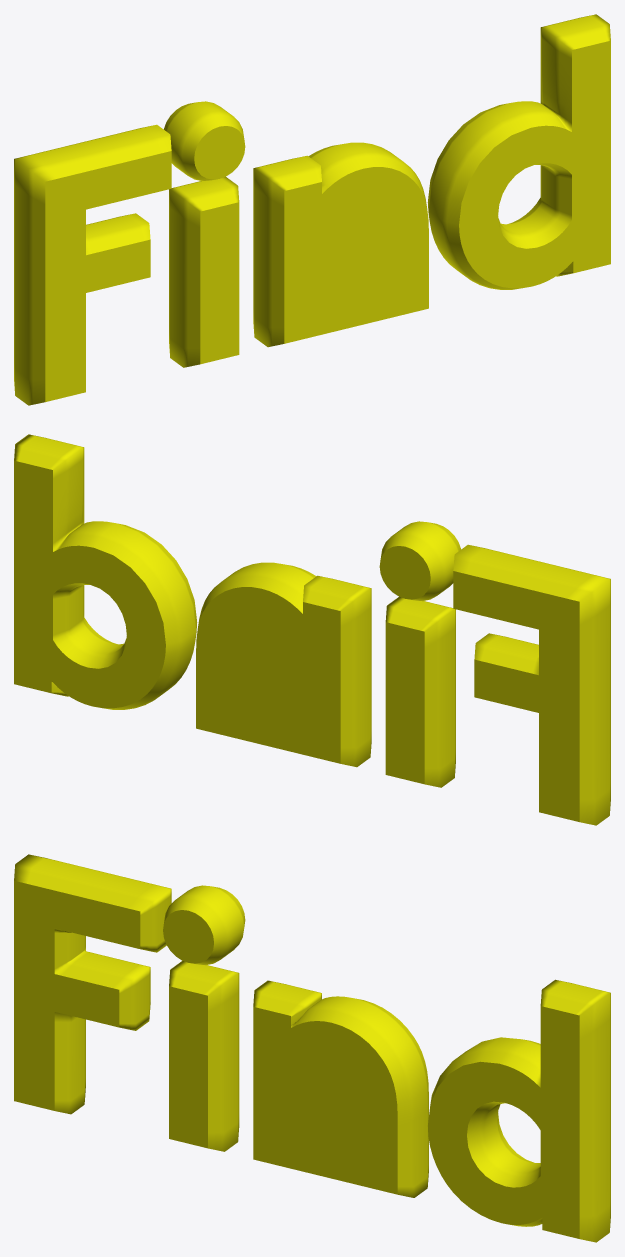
File: Find.fbx
3 renders of one model, top to bottom at view 1: azimuth 30°, elevation 25°; view 2: azimuth 150°, elevation 25°; view 3: azimuth 330°, elevation 25°, orthographic.
Parts seen in each view (by area): view 1: bevelPolygon6, bevelPolygon4, bevelPolygon1, bevelPolygon3, bevelPolygon2; view 2: bevelPolygon6, bevelPolygon4, bevelPolygon1, bevelPolygon3, bevelPolygon2; view 3: bevelPolygon6, bevelPolygon4, bevelPolygon1, bevelPolygon3, bevelPolygon2.
Part boxes in pixels (x1,y1,x2,y2): bevelPolygon6: (427, 14, 610, 289); bevelPolygon4: (253, 142, 428, 347); bevelPolygon1: (14, 124, 171, 405); bevelPolygon3: (169, 176, 239, 367); bevelPolygon2: (164, 101, 245, 181); bevelPolygon6: (14, 434, 197, 709); bevelPolygon4: (196, 562, 371, 767); bevelPolygon1: (453, 544, 610, 825); bevelPolygon3: (385, 596, 455, 787); bevelPolygon2: (379, 521, 460, 601); bevelPolygon6: (428, 979, 610, 1242); bevelPolygon4: (253, 980, 428, 1197); bevelPolygon1: (14, 854, 171, 1114); bevelPolygon3: (169, 960, 239, 1151); bevelPolygon2: (163, 885, 245, 965).
Bounding box in the file's own units: 7.53 × 3.12 × 0.7.
